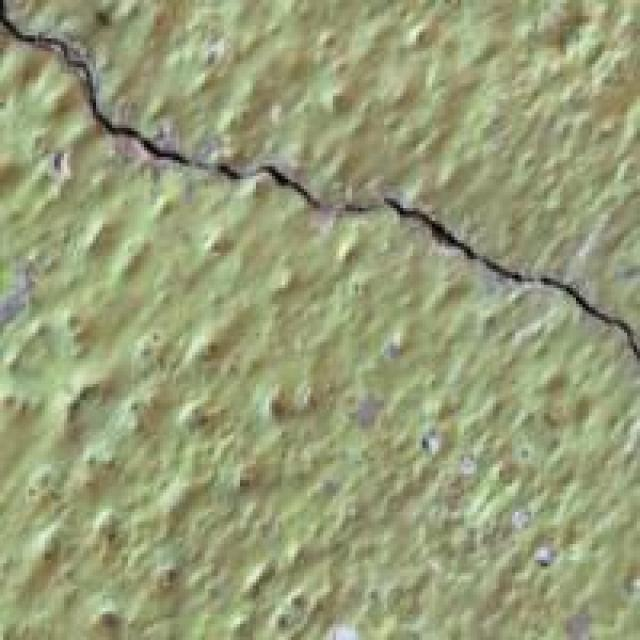crack: (3, 0, 627, 381)
